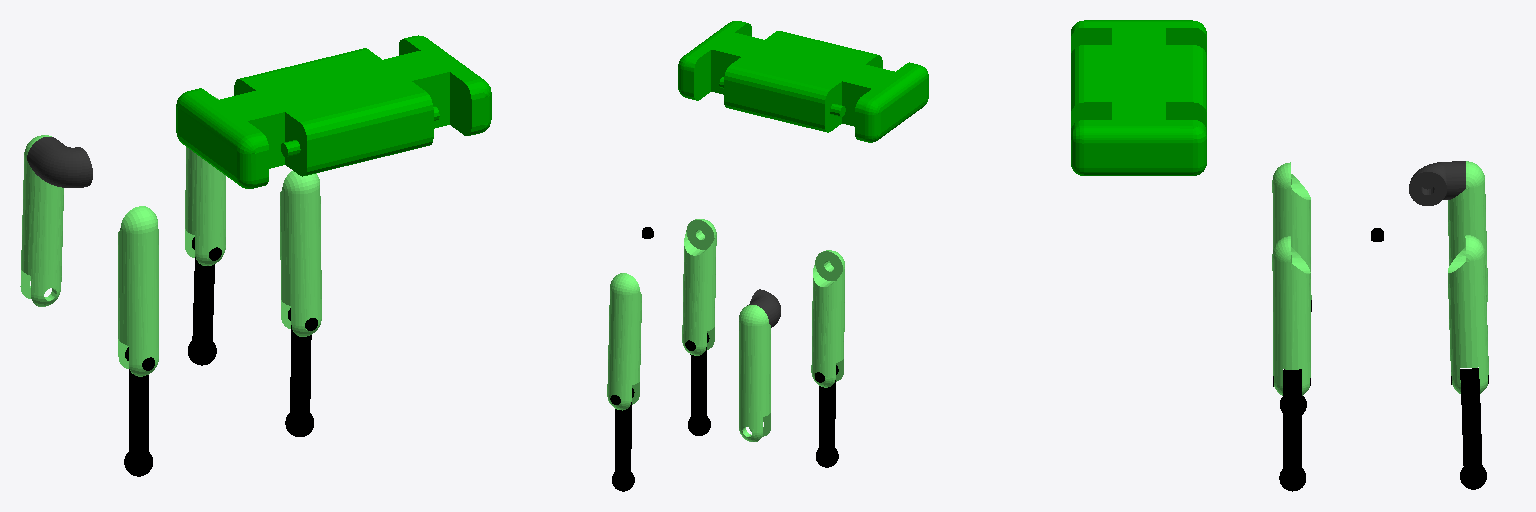
URDF robot description (quad_robo):
<?xml version="1.0" encoding="utf-8"?>
<!-- This URDF was automatically created by SolidWorks to URDF Exporter! Originally created by [author] ([email redacted]) 
     Commit Version: 1.6.0-4-g7f85cfe  Build Version: 1.6.7995.38578
     For more information, please see http://wiki.ros.org/sw_urdf_exporter -->
<robot
  name="quad_robo">
  <link
    name="body">
    <inertial>
      <origin
        xyz="-1.46356336883091E-07 -3.51552591482118E-08 1.14116542881959E-08"
        rpy="0 0 0" />
      <mass
        value="79.5537197619098" />
      <inertia
        ixx="1.64089584946241"
        ixy="3.23528257797902E-06"
        ixz="-5.94676449635078E-07"
        iyy="6.25234462192458"
        iyz="-1.08488705837856E-07"
        izz="7.3876567503266" />
    </inertial>
    <visual>
      <origin
        xyz="0 0 0"
        rpy="0 0 0" />
      <geometry>
        <mesh
          filename="package://quad_robo/meshes/body.STL" />
      </geometry>
      <material
        name="">
        <color
          rgba="0 0.752941176470588 0 1" />
      </material>
    </visual>
    <collision>
      <origin
        xyz="0 0 0"
        rpy="0 0 0" />
      <geometry>
        <mesh
          filename="package://quad_robo/meshes/body.STL" />
      </geometry>
    </collision>
  </link>
  <link
    name="camera">
    <inertial>
      <origin
        xyz="-5.26641064091393E-09 0.0232978247256392 5.17607523509156E-08"
        rpy="0 0 0" />
      <mass
        value="0.0738276082029152" />
      <inertia
        ixx="2.02746400750097E-05"
        ixy="-5.87121077446652E-12"
        ixz="5.41842911576072E-12"
        iyy="2.05931319726044E-05"
        iyz="5.76026306050092E-11"
        izz="2.02745272851038E-05" />
    </inertial>
    <visual>
      <origin
        xyz="0 0 0"
        rpy="0 0 0" />
      <geometry>
        <mesh
          filename="package://quad_robo/meshes/camera.STL" />
      </geometry>
      <material
        name="">
        <color
          rgba="0 0 0 1" />
      </material>
    </visual>
    <collision>
      <origin
        xyz="0 0 0"
        rpy="0 0 0" />
      <geometry>
        <mesh
          filename="package://quad_robo/meshes/camera.STL" />
      </geometry>
    </collision>
  </link>
  <joint
    name="camera_joint"
    type="fixed">
    <origin
      xyz="0.4 -0.00500000000000023 0.095"
      rpy="1.5707963267949 0 0" />
    <parent
      link="body" />
    <child
      link="camera" />
    <axis
      xyz="0 1 0" />
  </joint>
  <link
    name="back_right_thigh">
    <inertial>
      <origin
        xyz="0.062909843287888 -5.55111512312578E-16 0.0554258383771329"
        rpy="0 0 0" />
      <mass
        value="2.77020343496813" />
      <inertia
        ixx="0.0122323817817133"
        ixy="1.41285095602017E-17"
        ixz="-0.00138250516290713"
        iyy="0.0121646709526814"
        iyz="5.36781719333995E-17"
        izz="0.00671928758663995" />
    </inertial>
    <visual>
      <origin
        xyz="0 0 0"
        rpy="0 0 0" />
      <geometry>
        <mesh
          filename="package://quad_robo/meshes/back_right_thigh.STL" />
      </geometry>
      <material
        name="">
        <color
          rgba="0.250980392156863 0.250980392156863 0.250980392156863 1" />
      </material>
    </visual>
    <collision>
      <origin
        xyz="0 0 0"
        rpy="0 0 0" />
      <geometry>
        <mesh
          filename="package://quad_robo/meshes/back_right_thigh.STL" />
      </geometry>
    </collision>
  </link>
  <joint
    name="back_right_thigh_joint"
    type="revolute">
    <origin
      xyz="-0.24995 -0.18 0"
      rpy="-1.57851534436428 0 3.14159265358979" />
    <parent
      link="body" />
    <child
      link="back_right_thigh" />
    <axis
      xyz="1 0 0" />
    <limit
      lower="-3.14"
      upper="3.14"
      effort="1000"
      velocity="1000" />
  </joint>
  <link
    name="back_right_leg">
    <inertial>
      <origin
        xyz="0.0730352545446933 -0.237417764752276 6.5188398845617E-09"
        rpy="0 0 0" />
      <mass
        value="6.93816869174773" />
      <inertia
        ixx="0.144761661754863"
        ixy="-0.00478965570518421"
        ixz="-3.98269493506169E-08"
        iyy="0.0173922214758361"
        iyz="6.48408997339703E-09"
        izz="0.145237872165608" />
    </inertial>
    <visual>
      <origin
        xyz="0 0 0"
        rpy="0 0 0" />
      <geometry>
        <mesh
          filename="package://quad_robo/meshes/back_right_leg.STL" />
      </geometry>
      <material
        name="">
        <color
          rgba="0.501960784313725 1 0.501960784313725 1" />
      </material>
    </visual>
    <collision>
      <origin
        xyz="0 0 0"
        rpy="0 0 0" />
      <geometry>
        <mesh
          filename="package://quad_robo/meshes/back_right_leg.STL" />
      </geometry>
    </collision>
  </link>
  <joint
    name="back_right_leg_joint"
    type="revolute">
    <origin
      xyz="0.07005 0 0.070008"
      rpy="0.012688 -1.5708 3.14" />
    <parent
      link="back_right_thigh" />
    <child
      link="back_right_leg" />
    <axis
      xyz="1 0 0" />
    <limit
      lower="-3.14"
      upper="3.14"
      effort="1000"
      velocity="1000" />
  </joint>
  <link
    name="back_right_shin">
    <inertial>
      <origin
        xyz="0.0699916518608028 0.206758869782017 -2.45496274753343E-07"
        rpy="0 0 0" />
      <mass
        value="2.18909073352721" />
      <inertia
        ixx="0.0495544592119496"
        ixy="-4.02316241301775E-09"
        ixz="-1.2891756100279E-08"
        iyy="0.00191161408925373"
        iyz="5.10972999990865E-09"
        izz="0.0499442056233554" />
    </inertial>
    <visual>
      <origin
        xyz="0 0 0"
        rpy="0 0 0" />
      <geometry>
        <mesh
          filename="package://quad_robo/meshes/back_right_shin.STL" />
      </geometry>
      <material
        name="">
        <color
          rgba="0 0 0 1" />
      </material>
    </visual>
    <collision>
      <origin
        xyz="0 0 0"
        rpy="0 0 0" />
      <geometry>
        <mesh
          filename="package://quad_robo/meshes/back_right_shin.STL" />
      </geometry>
    </collision>
  </link>
  <joint
    name="back_right_shin_joint"
    type="revolute">
    <origin
      xyz="0 -0.5 0"
      rpy="3.13239716961229 0 0" />
    <parent
      link="back_right_leg" />
    <child
      link="back_right_shin" />
    <axis
      xyz="1 0 0" />
    <limit
      lower="-3.14"
      upper="3.14"
      effort="1000"
      velocity="1000" />
  </joint>
  <link
    name="back_left_thigh">
    <inertial>
      <origin
        xyz="0.062909843287888 -3.33066907387547E-16 0.0554258383771333"
        rpy="0 0 0" />
      <mass
        value="2.77020343496813" />
      <inertia
        ixx="0.0122323817817133"
        ixy="6.46455545344482E-18"
        ixz="-0.00138250516290713"
        iyy="0.0121646709526814"
        iyz="2.54787510534094E-17"
        izz="0.00671928758663995" />
    </inertial>
    <visual>
      <origin
        xyz="0 0 0"
        rpy="0 0 0" />
      <geometry>
        <mesh
          filename="package://quad_robo/meshes/back_left_thigh.STL" />
      </geometry>
      <material
        name="">
        <color
          rgba="0.250980392156863 0.250980392156863 0.250980392156863 1" />
      </material>
    </visual>
    <collision>
      <origin
        xyz="0 0 0"
        rpy="0 0 0" />
      <geometry>
        <mesh
          filename="package://quad_robo/meshes/back_left_thigh.STL" />
      </geometry>
    </collision>
  </link>
  <joint
    name="back_left_thigh_joint"
    type="revolute">
    <origin
      xyz="-0.24995 0.18 0"
      rpy="1.5468 0 3.1416" />
    <parent
      link="body" />
    <child
      link="back_left_thigh" />
    <axis
      xyz="-1 0 0" />
    <limit
      lower="-3.14"
      upper="3.14"
      effort="1000"
      velocity="1000" />
  </joint>
  <link
    name="back_left_leg">
    <inertial>
      <origin
        xyz="0.072963236277204 -0.237417763004437 -5.14056230915827E-09"
        rpy="0 0 0" />
      <mass
        value="6.93816842607885" />
      <inertia
        ixx="0.144761657967399"
        ixy="-0.00478964566005541"
        ixz="-4.03728476959917E-08"
        iyy="0.017392218412496"
        iyz="9.89381740646201E-09"
        izz="0.145237864969177" />
    </inertial>
    <visual>
      <origin
        xyz="0 0 0"
        rpy="0 0 0" />
      <geometry>
        <mesh
          filename="package://quad_robo/meshes/back_left_leg.STL" />
      </geometry>
      <material
        name="">
        <color
          rgba="0.501960784313725 1 0.501960784313725 1" />
      </material>
    </visual>
    <collision>
      <origin
        xyz="0 0 0"
        rpy="0 0 0" />
      <geometry>
        <mesh
          filename="package://quad_robo/meshes/back_left_leg.STL" />
      </geometry>
    </collision>
  </link>
  <joint
    name="back_left_leg_joint"
    type="revolute">
    <origin
      xyz="0.0700499999999985 0 0.0700804080308911"
      rpy="1.57078961790696 -1.57079631189374 -1.55534042399146" />
    <parent
      link="back_left_thigh" />
    <child
      link="back_left_leg" />
    <axis
      xyz="-1 0 0" />
    <limit
      lower="-3.14"
      upper="3.14"
      effort="1000"
      velocity="1000" />
  </joint>
  <link
    name="back_left_shin">
    <inertial>
      <origin
        xyz="0.069919797930706 0.206758606104935 2.62203067119549E-07"
        rpy="0 0 0" />
      <mass
        value="2.18909502281746" />
      <inertia
        ixx="0.0495545339536704"
        ixy="-9.70636337147349E-11"
        ixz="-8.11442350270843E-09"
        iyy="0.00191161861589561"
        iyz="-1.96303128510681E-08"
        izz="0.0499442789876987" />
    </inertial>
    <visual>
      <origin
        xyz="0 0 0"
        rpy="0 0 0" />
      <geometry>
        <mesh
          filename="package://quad_robo/meshes/back_left_shin.STL" />
      </geometry>
      <material
        name="">
        <color
          rgba="0 0 0 1" />
      </material>
    </visual>
    <collision>
      <origin
        xyz="0 0 0"
        rpy="0 0 0" />
      <geometry>
        <mesh
          filename="package://quad_robo/meshes/back_left_shin.STL" />
      </geometry>
    </collision>
  </link>
  <joint
    name="back_left_shin_joint"
    type="revolute">
    <origin
      xyz="0 -0.5 0"
      rpy="-3.13137711623783 0 0" />
    <parent
      link="back_left_leg" />
    <child
      link="back_left_shin" />
    <axis
      xyz="-1 0 0" />
    <limit
      lower="-3.14"
      upper="3.14"
      effort="1000"
      velocity="1000" />
  </joint>
  <link
    name="front_left_thigh">
    <inertial>
      <origin
        xyz="0.062909843287888 -1.11022302462516E-16 0.0554258383771333"
        rpy="0 0 0" />
      <mass
        value="2.77020343496812" />
      <inertia
        ixx="0.0122323817817133"
        ixy="2.81214938488428E-18"
        ixz="-0.00138250516290713"
        iyy="0.0121646709526814"
        iyz="1.5355013267826E-17"
        izz="0.00671928758663994" />
    </inertial>
    <visual>
      <origin
        xyz="0 0 0"
        rpy="0 0 0" />
      <geometry>
        <mesh
          filename="package://quad_robo/meshes/front_left_thigh.STL" />
      </geometry>
      <material
        name="">
        <color
          rgba="0.250980392156863 0.250980392156863 0.250980392156863 1" />
      </material>
    </visual>
    <collision>
      <origin
        xyz="0 0 0"
        rpy="0 0 0" />
      <geometry>
        <mesh
          filename="package://quad_robo/meshes/front_left_thigh.STL" />
      </geometry>
    </collision>
  </link>
  <joint
    name="front_left_thigh_joint"
    type="revolute">
    <origin
      xyz="0.24995 0.18 0"
      rpy="-1.541 0 0" />
    <parent
      link="body" />
    <child
      link="front_left_thigh" />
    <axis
      xyz="1 0 0" />
    <limit
      lower="-3.14"
      upper="3.14"
      effort="1000"
      velocity="1000" />
  </joint>
  <link
    name="front_left_leg">
    <inertial>
      <origin
        xyz="0.0729197874329797 -0.237417761694859 3.33459232448874E-09"
        rpy="0 0 0" />
      <mass
        value="6.93816836078529" />
      <inertia
        ixx="0.144761656790624"
        ixy="-0.00478964515103163"
        ixz="-3.99813356402216E-08"
        iyy="0.0173922180334012"
        iyz="7.5587714024751E-09"
        izz="0.145237863562429" />
    </inertial>
    <visual>
      <origin
        xyz="0 0 0"
        rpy="0 0 0" />
      <geometry>
        <mesh
          filename="package://quad_robo/meshes/front_left_leg.STL" />
      </geometry>
      <material
        name="">
        <color
          rgba="0.501960784313725 1 0.501960784313725 1" />
      </material>
    </visual>
    <collision>
      <origin
        xyz="0 0 0"
        rpy="0 0 0" />
      <geometry>
        <mesh
          filename="package://quad_robo/meshes/front_left_leg.STL" />
      </geometry>
    </collision>
  </link>
  <joint
    name="front_left_leg_joint"
    type="revolute">
    <origin
      xyz="0.0700499999999982 0 0.0701238610761452"
      rpy="-1.5707963267949 -1.57079631189374 -1.57977054173432" />
    <parent
      link="front_left_thigh" />
    <child
      link="front_left_leg" />
    <axis
      xyz="-1 0 0" />
    <limit
      lower="-3.14"
      upper="3.14"
      effort="1000"
      velocity="1000" />
  </joint>
  <link
    name="front_left_shin">
    <inertial>
      <origin
        xyz="0.0698764395589798 0.206758862215771 1.34053533940026E-07"
        rpy="0 0 0" />
      <mass
        value="2.18909066860029" />
      <inertia
        ixx="0.0495544565143451"
        ixy="2.7795255573489E-09"
        ixz="-1.12016659458804E-08"
        iyy="0.00191161192130292"
        iyz="-2.86451210553766E-08"
        izz="0.0499442043702863" />
    </inertial>
    <visual>
      <origin
        xyz="0 0 0"
        rpy="0 0 0" />
      <geometry>
        <mesh
          filename="package://quad_robo/meshes/front_left_shin.STL" />
      </geometry>
      <material
        name="">
        <color
          rgba="0 0 0 1" />
      </material>
    </visual>
    <collision>
      <origin
        xyz="0 0 0"
        rpy="0 0 0" />
      <geometry>
        <mesh
          filename="package://quad_robo/meshes/front_left_shin.STL" />
      </geometry>
    </collision>
  </link>
  <joint
    name="front_left_shin_joint"
    type="revolute">
    <origin
      xyz="0 -0.5 0"
      rpy="-3.11813184338048 0 0" />
    <parent
      link="front_left_leg" />
    <child
      link="front_left_shin" />
    <axis
      xyz="-1 0 0" />
    <limit
      lower="-3.14"
      upper="3.14"
      effort="1000"
      velocity="1000" />
  </joint>
  <link
    name="front_right_thigh">
    <inertial>
      <origin
        xyz="0.062909843287888 1.11022302462516E-16 0.0554258383771331"
        rpy="0 0 0" />
      <mass
        value="2.77020343496813" />
      <inertia
        ixx="0.0122323817817133"
        ixy="-2.30223555063719E-18"
        ixz="-0.00138250516290713"
        iyy="0.0121646709526814"
        iyz="-8.98532550447362E-18"
        izz="0.00671928758663995" />
    </inertial>
    <visual>
      <origin
        xyz="0 0 0"
        rpy="0 0 0" />
      <geometry>
        <mesh
          filename="package://quad_robo/meshes/front_right_thigh.STL" />
      </geometry>
      <material
        name="">
        <color
          rgba="0.250980392156863 0.250980392156863 0.250980392156863 1" />
      </material>
    </visual>
    <collision>
      <origin
        xyz="0 0 0"
        rpy="0 0 0" />
      <geometry>
        <mesh
          filename="package://quad_robo/meshes/front_right_thigh.STL" />
      </geometry>
    </collision>
  </link>
  <joint
    name="front_right_thigh_joint"
    type="revolute">
    <origin
      xyz="0.24995 -0.18 0"
      rpy="1.57651439790666 0 0" />
    <parent
      link="body" />
    <child
      link="front_right_thigh" />
    <axis
      xyz="-1 0 0" />
    <limit
      lower="-3.14"
      upper="3.14"
      effort="1000"
      velocity="1000" />
  </joint>
  <link
    name="front_right_leg">
    <inertial>
      <origin
        xyz="0.0730390174471298 -0.23741776527427 -3.69308134073876E-09"
        rpy="0 0 0" />
      <mass
        value="6.93816871372887" />
      <inertia
        ixx="0.144761662160028"
        ixy="-0.00478965550109165"
        ixz="-4.02638939699464E-08"
        iyy="0.0173922216019095"
        iyz="9.32153008033164E-09"
        izz="0.145237872671702" />
    </inertial>
    <visual>
      <origin
        xyz="0 0 0"
        rpy="0 0 0" />
      <geometry>
        <mesh
          filename="package://quad_robo/meshes/front_right_leg.STL" />
      </geometry>
      <material
        name="">
        <color
          rgba="0.501960784313725 1 0.501960784313725 1" />
      </material>
    </visual>
    <collision>
      <origin
        xyz="0 0 0"
        rpy="0 0 0" />
      <geometry>
        <mesh
          filename="package://quad_robo/meshes/front_right_leg.STL" />
      </geometry>
    </collision>
  </link>
  <joint
    name="front_right_leg_joint"
    type="revolute">
    <origin
      xyz="0.0700500000000003 0 0.070004577437325"
      rpy="1.58359552808128 -1.57079631189374 -1.56692759309649" />
    <parent
      link="front_right_thigh" />
    <child
      link="front_right_leg" />
    <axis
      xyz="1 0 0" />
    <limit
      lower="-3.14"
      upper="3.14"
      effort="1000"
      velocity="1000" />
  </joint>
  <link
    name="front_right_shin">
    <inertial>
      <origin
        xyz="0.0699954264525831 0.20675886909659 -1.74080901305107E-07"
        rpy="0 0 0" />
      <mass
        value="2.18909072827596" />
      <inertia
        ixx="0.0495544584922607"
        ixy="-1.29555843858146E-09"
        ixz="-1.28395081007654E-08"
        iyy="0.00191161363476337"
        iyz="7.95536208459755E-10"
        izz="0.0499442059837185" />
    </inertial>
    <visual>
      <origin
        xyz="0 0 0"
        rpy="0 0 0" />
      <geometry>
        <mesh
          filename="package://quad_robo/meshes/front_right_shin.STL" />
      </geometry>
      <material
        name="">
        <color
          rgba="0 0 0 1" />
      </material>
    </visual>
    <collision>
      <origin
        xyz="0 0 0"
        rpy="0 0 0" />
      <geometry>
        <mesh
          filename="package://quad_robo/meshes/front_right_shin.STL" />
      </geometry>
    </collision>
  </link>
  <joint
    name="front_right_shin_joint"
    type="revolute">
    <origin
      xyz="0 -0.5 0"
      rpy="3.11051444863319 0 0" />
    <parent
      link="front_right_leg" />
    <child
      link="front_right_shin" />
    <axis
      xyz="1 0 0" />
    <limit
      lower="-3.14"
      upper="3.14"
      effort="1000"
      velocity="1000" />
  </joint>
</robot>

--- What the picture shows (computed from the rendered views, not written in the file) ---
The picture shows the robot from 3 angles, left to right: view 1: azimuth 30°, elevation 25°; view 2: azimuth 150°, elevation 25°; view 3: azimuth 270°, elevation 25°; orthographic projection.
Robot: quad_robo — 14 links, 13 joints (12 revolute, 1 fixed); root link body; default pose: all joints at 0.
Visible links, largest first — view 1: body, back_right_leg, front_right_leg, back_left_leg, front_left_leg, back_left_thigh, front_right_shin, front_left_shin, back_right_shin; view 2: body, back_left_leg, front_right_leg, back_right_leg, front_left_leg, front_left_shin, back_right_shin, front_right_shin, back_left_thigh; view 3: body, front_right_leg, front_left_leg, back_right_leg, back_left_leg, front_right_shin, front_left_shin, back_left_thigh.
Link boxes in pixels (x1=…): body: x1=176, y1=35, x2=491, y2=188; back_right_leg: x1=118, y1=206, x2=158, y2=376; front_right_leg: x1=280, y1=171, x2=321, y2=336; back_left_leg: x1=20, y1=135, x2=63, y2=306; front_left_leg: x1=185, y1=97, x2=225, y2=265; back_left_thigh: x1=27, y1=137, x2=92, y2=187; front_right_shin: x1=285, y1=308, x2=317, y2=436; front_left_shin: x1=188, y1=237, x2=221, y2=365; back_right_shin: x1=124, y1=347, x2=154, y2=476; body: x1=678, y1=21, x2=928, y2=142; back_left_leg: x1=739, y1=305, x2=770, y2=441; front_right_leg: x1=682, y1=219, x2=716, y2=355; back_right_leg: x1=811, y1=250, x2=844, y2=387; front_left_leg: x1=607, y1=273, x2=641, y2=410; front_left_shin: x1=610, y1=388, x2=634, y2=491; back_right_shin: x1=815, y1=365, x2=838, y2=467; front_right_shin: x1=685, y1=333, x2=710, y2=435; back_left_thigh: x1=747, y1=289, x2=780, y2=327; body: x1=1071, y1=20, x2=1206, y2=175; front_right_leg: x1=1272, y1=236, x2=1310, y2=395; front_left_leg: x1=1448, y1=235, x2=1488, y2=393; back_right_leg: x1=1272, y1=162, x2=1311, y2=299; back_left_leg: x1=1448, y1=161, x2=1487, y2=301; front_right_shin: x1=1273, y1=370, x2=1310, y2=491; front_left_shin: x1=1451, y1=368, x2=1488, y2=489; back_left_thigh: x1=1409, y1=161, x2=1465, y2=205.
Size in the robot's own frame: 1.03 by 1.54 by 1.6 metres.
Meshes: 14 distinct files referenced, 10 mesh visuals loaded (10 binary STL); not drawn: 4 (reference not matched to a file when rendering).